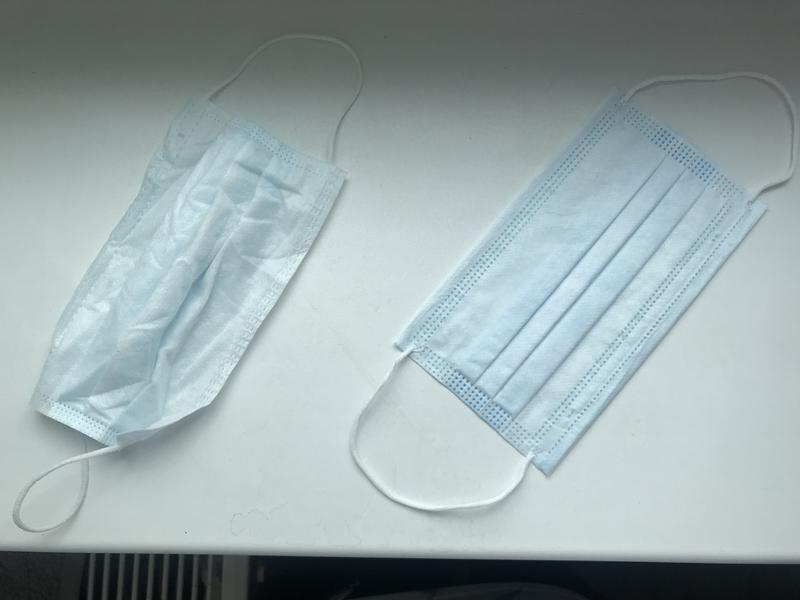medical_mask: (348, 72, 796, 514), (15, 31, 361, 536)
